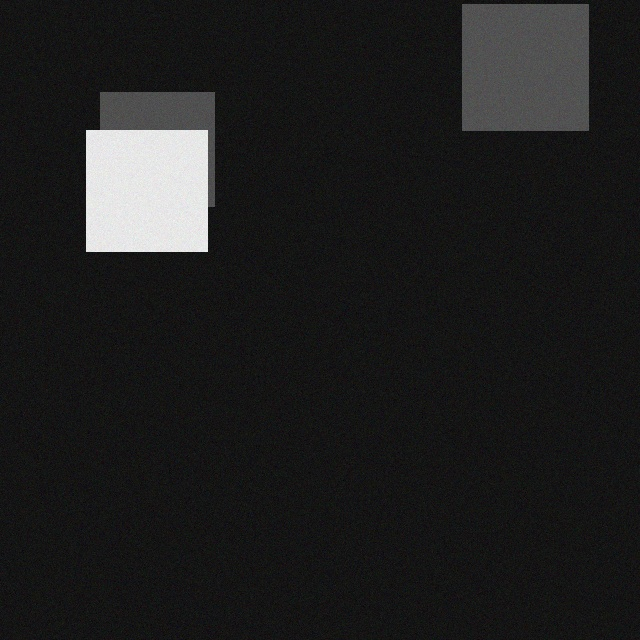square: (455, 9, 581, 135), (79, 135, 200, 256), (93, 97, 207, 211)
